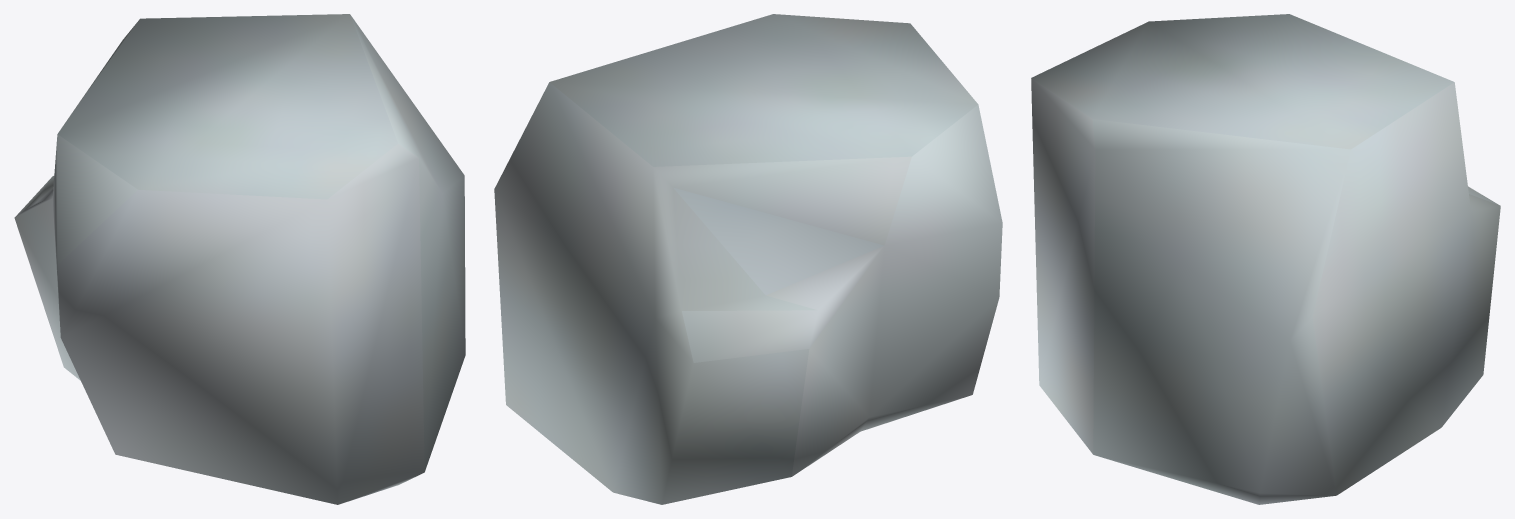
File: P_RockSpire_Rock03.obj
3 renders of one model, left to right at view 1: azimuth 30°, elevation 25°; view 2: azimuth 150°, elevation 25°; view 3: azimuth 270°, elevation 25°, orthographic. The views are drawn at different scales.
Bounding box in the file's own units: 2.8 × 2.1 × 2.62.
